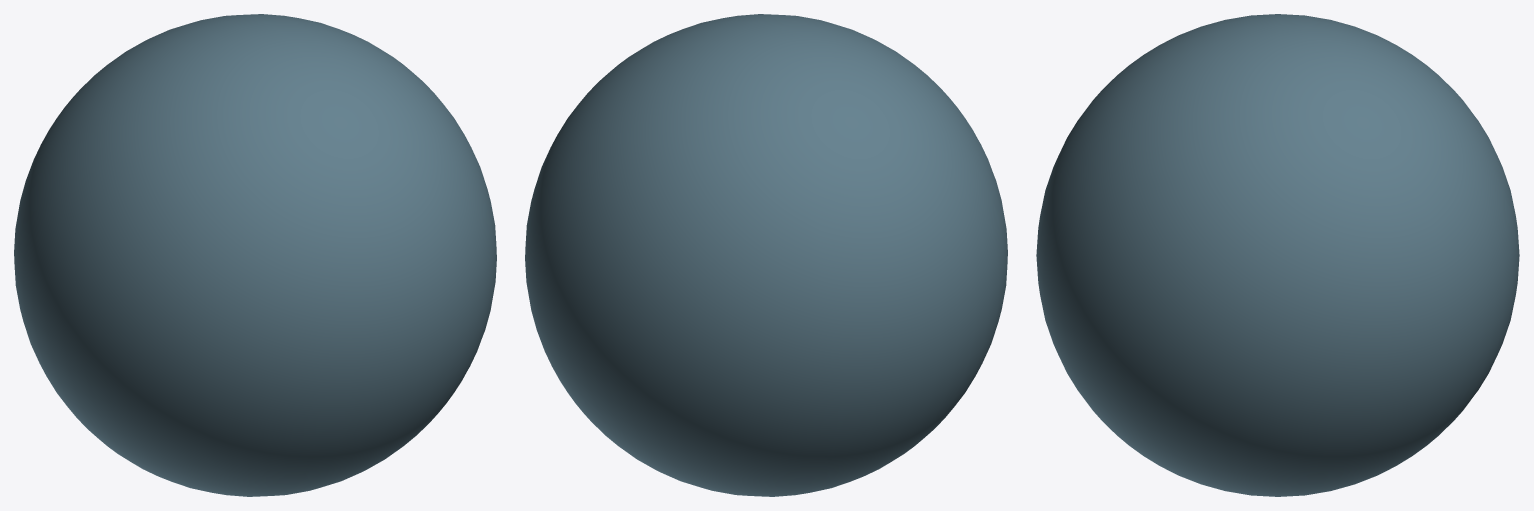
Rendered from SphericalMoon.fbx.
The picture shows the model from 3 angles, left to right: view 1: azimuth 30°, elevation 25°; view 2: azimuth 150°, elevation 25°; view 3: azimuth 270°, elevation 25°; orthographic projection.
Parts seen in each view (by area): view 1: Moon; view 2: Moon; view 3: Moon.
Boxes of the visible parts, <box> form: Moon: <box>14,14,496,496</box>; Moon: <box>525,14,1007,496</box>; Moon: <box>1036,14,1519,496</box>.
Size of the model in its own units: 400 by 400 by 400.
